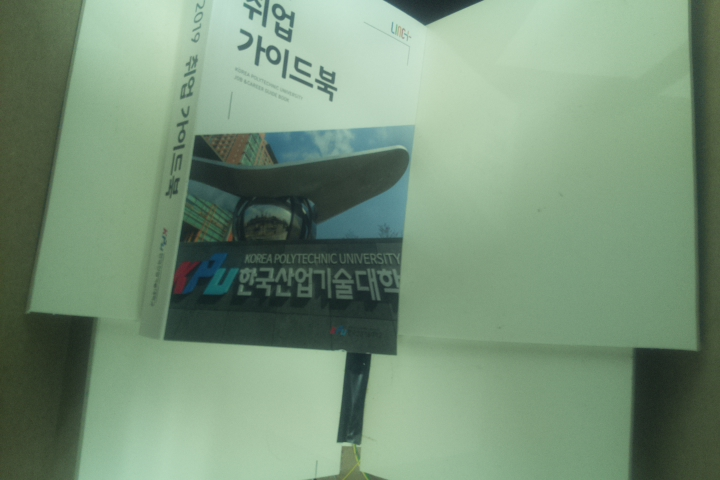book: (135, 1, 431, 362)
